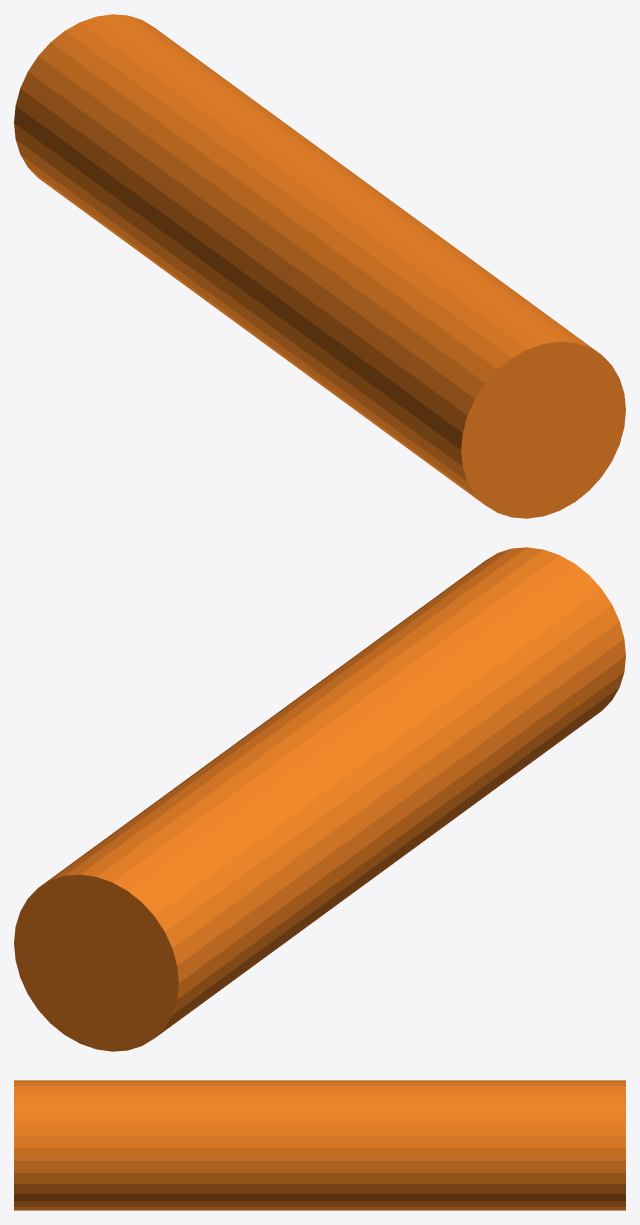
Rendered from tinker.obj.
The picture shows the model from 3 angles, top to bottom: view 1: azimuth 30°, elevation 25°; view 2: azimuth 150°, elevation 25°; view 3: azimuth 270°, elevation 25°; orthographic projection. The views are drawn at different scales.
Visible parts, largest first — view 1: obj_0; view 2: obj_0; view 3: obj_0.
Part boxes in pixels (x1,y1,x2,y2): obj_0: [14, 14, 625, 518]; obj_0: [14, 547, 625, 1051]; obj_0: [14, 1080, 625, 1210].
Size of the model in its own units: 20 by 20 by 94.
